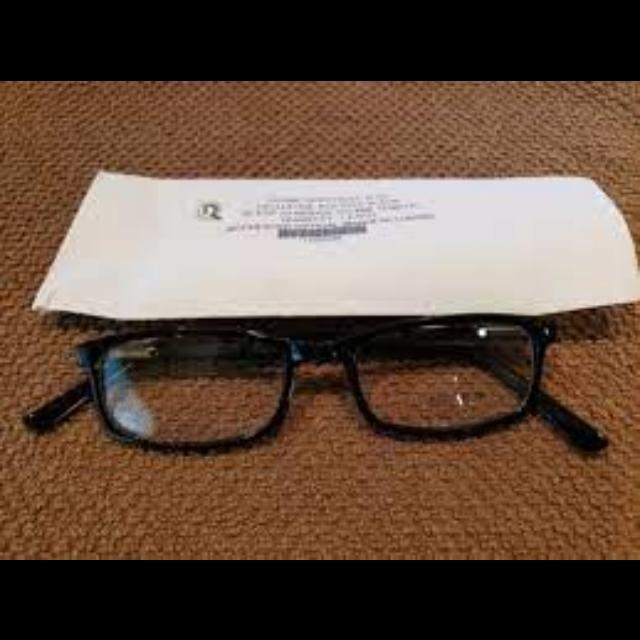glasses: (20, 312, 638, 454)
